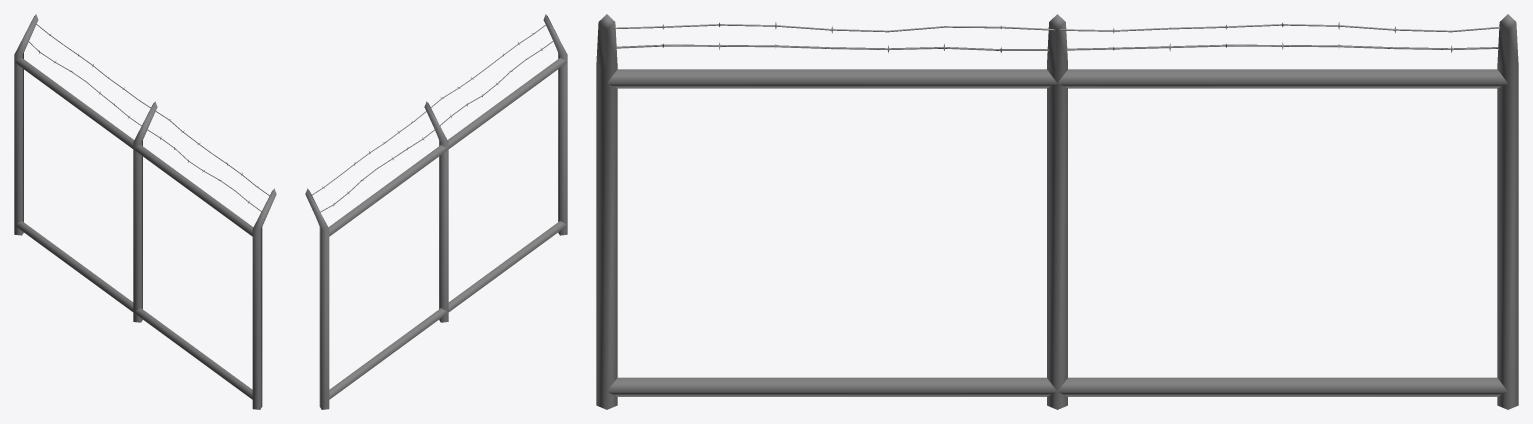
The model's file is SW_ENV_WalledStraight_WireFence_05m.fbx.
3 renders of one model, left to right at view 1: azimuth 30°, elevation 25°; view 2: azimuth 150°, elevation 25°; view 3: azimuth 270°, elevation 25°, orthographic. The views are drawn at different scales.
Parts seen in each view (by area): view 1: SW_ENV_WalledStraight_WireFence_05m; view 2: SW_ENV_WalledStraight_WireFence_05m; view 3: SW_ENV_WalledStraight_WireFence_05m.
Part boxes in pixels (x1,y1,x2,y2): SW_ENV_WalledStraight_WireFence_05m: [14, 14, 276, 409]; SW_ENV_WalledStraight_WireFence_05m: [305, 14, 567, 409]; SW_ENV_WalledStraight_WireFence_05m: [596, 14, 1518, 409].
Size of the model in its own units: 0.2715 by 2.39 by 4.91.
